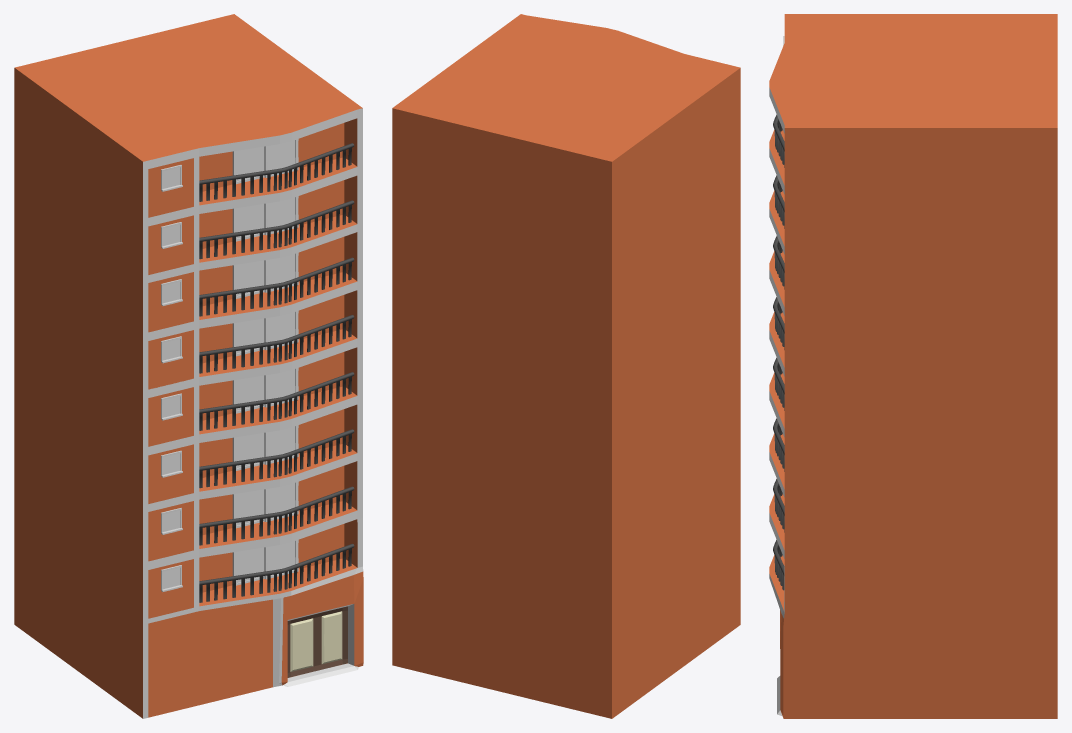
File: prédioVariante3.fbx
3 renders of one model, left to right at view 1: azimuth 30°, elevation 25°; view 2: azimuth 150°, elevation 25°; view 3: azimuth 270°, elevation 25°, orthographic. The views are drawn at different scales.
Visible parts, largest first — view 1: Cube.001, varanda.001, varanda.002, varanda.003; view 2: Cube.001; view 3: Cube.001, varanda.001.
Part boxes in pixels (bbox=[...]): Cube.001: bbox=[14, 14, 363, 718]; varanda.001: bbox=[199, 143, 354, 602]; varanda.002: bbox=[232, 139, 298, 585]; varanda.003: bbox=[161, 165, 182, 591]; Cube.001: bbox=[392, 14, 740, 718]; Cube.001: bbox=[769, 14, 1057, 718]; varanda.001: bbox=[773, 114, 784, 590].
Bounding box in the file's own units: 1636 × 3961 × 1751.
7 materials, 1 textured.
